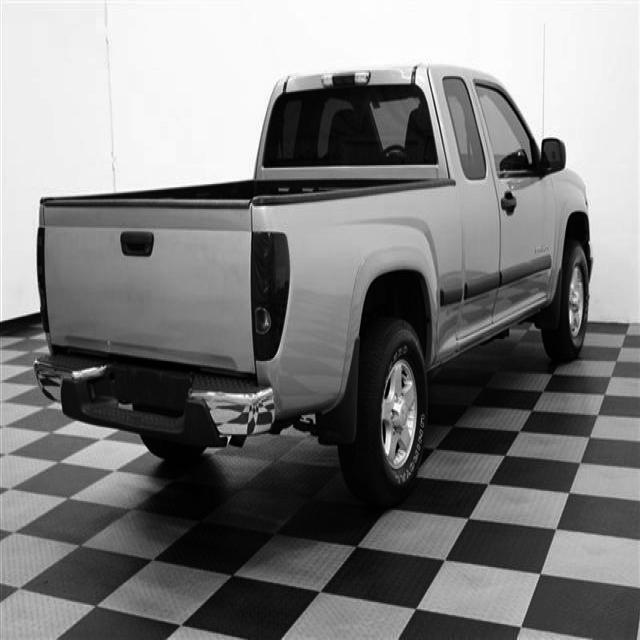car: (33, 61, 593, 510)
